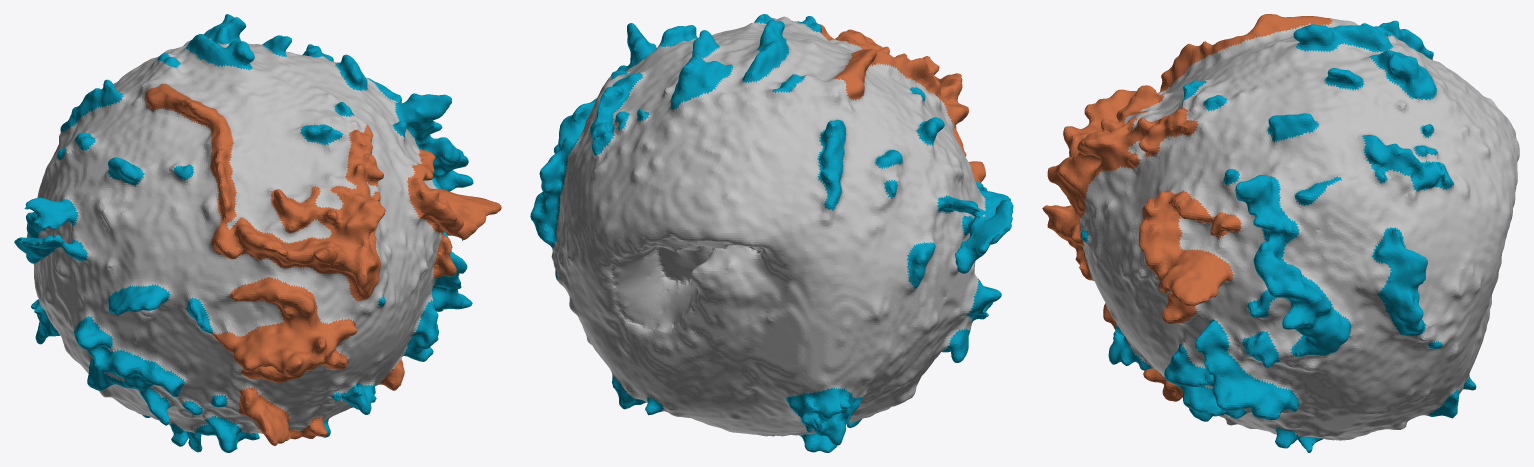
3 renders of one model, left to right at view 1: azimuth 30°, elevation 25°; view 2: azimuth 150°, elevation 25°; view 3: azimuth 270°, elevation 25°, orthographic. The views are drawn at different scales.
Size of the model in its own units: 171 by 146 by 153.
